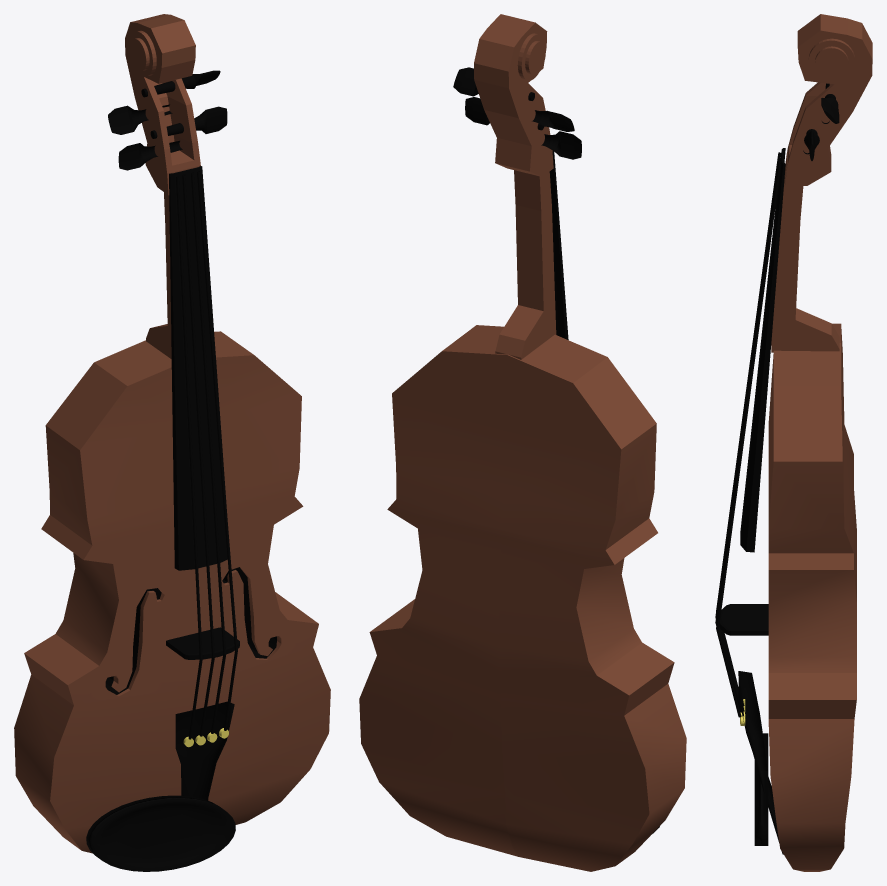
The model's file is Low_Poly_Violin.glb.
The picture shows the model from 3 angles, left to right: view 1: azimuth 30°, elevation 25°; view 2: azimuth 150°, elevation 25°; view 3: azimuth 270°, elevation 25°; orthographic projection. The views are drawn at different scales.
Visible parts, largest first — view 1: unnamed (×4); view 2: unnamed (×2); view 3: unnamed (×4).
Boxes of the visible parts, x1,y1,x2,y2 form: unnamed (×4): (14, 14, 330, 871); unnamed (×2): (359, 14, 686, 871); unnamed (×4): (715, 14, 872, 871).
Bounding box in the file's own units: 8.46 × 23.73 × 4.1.
